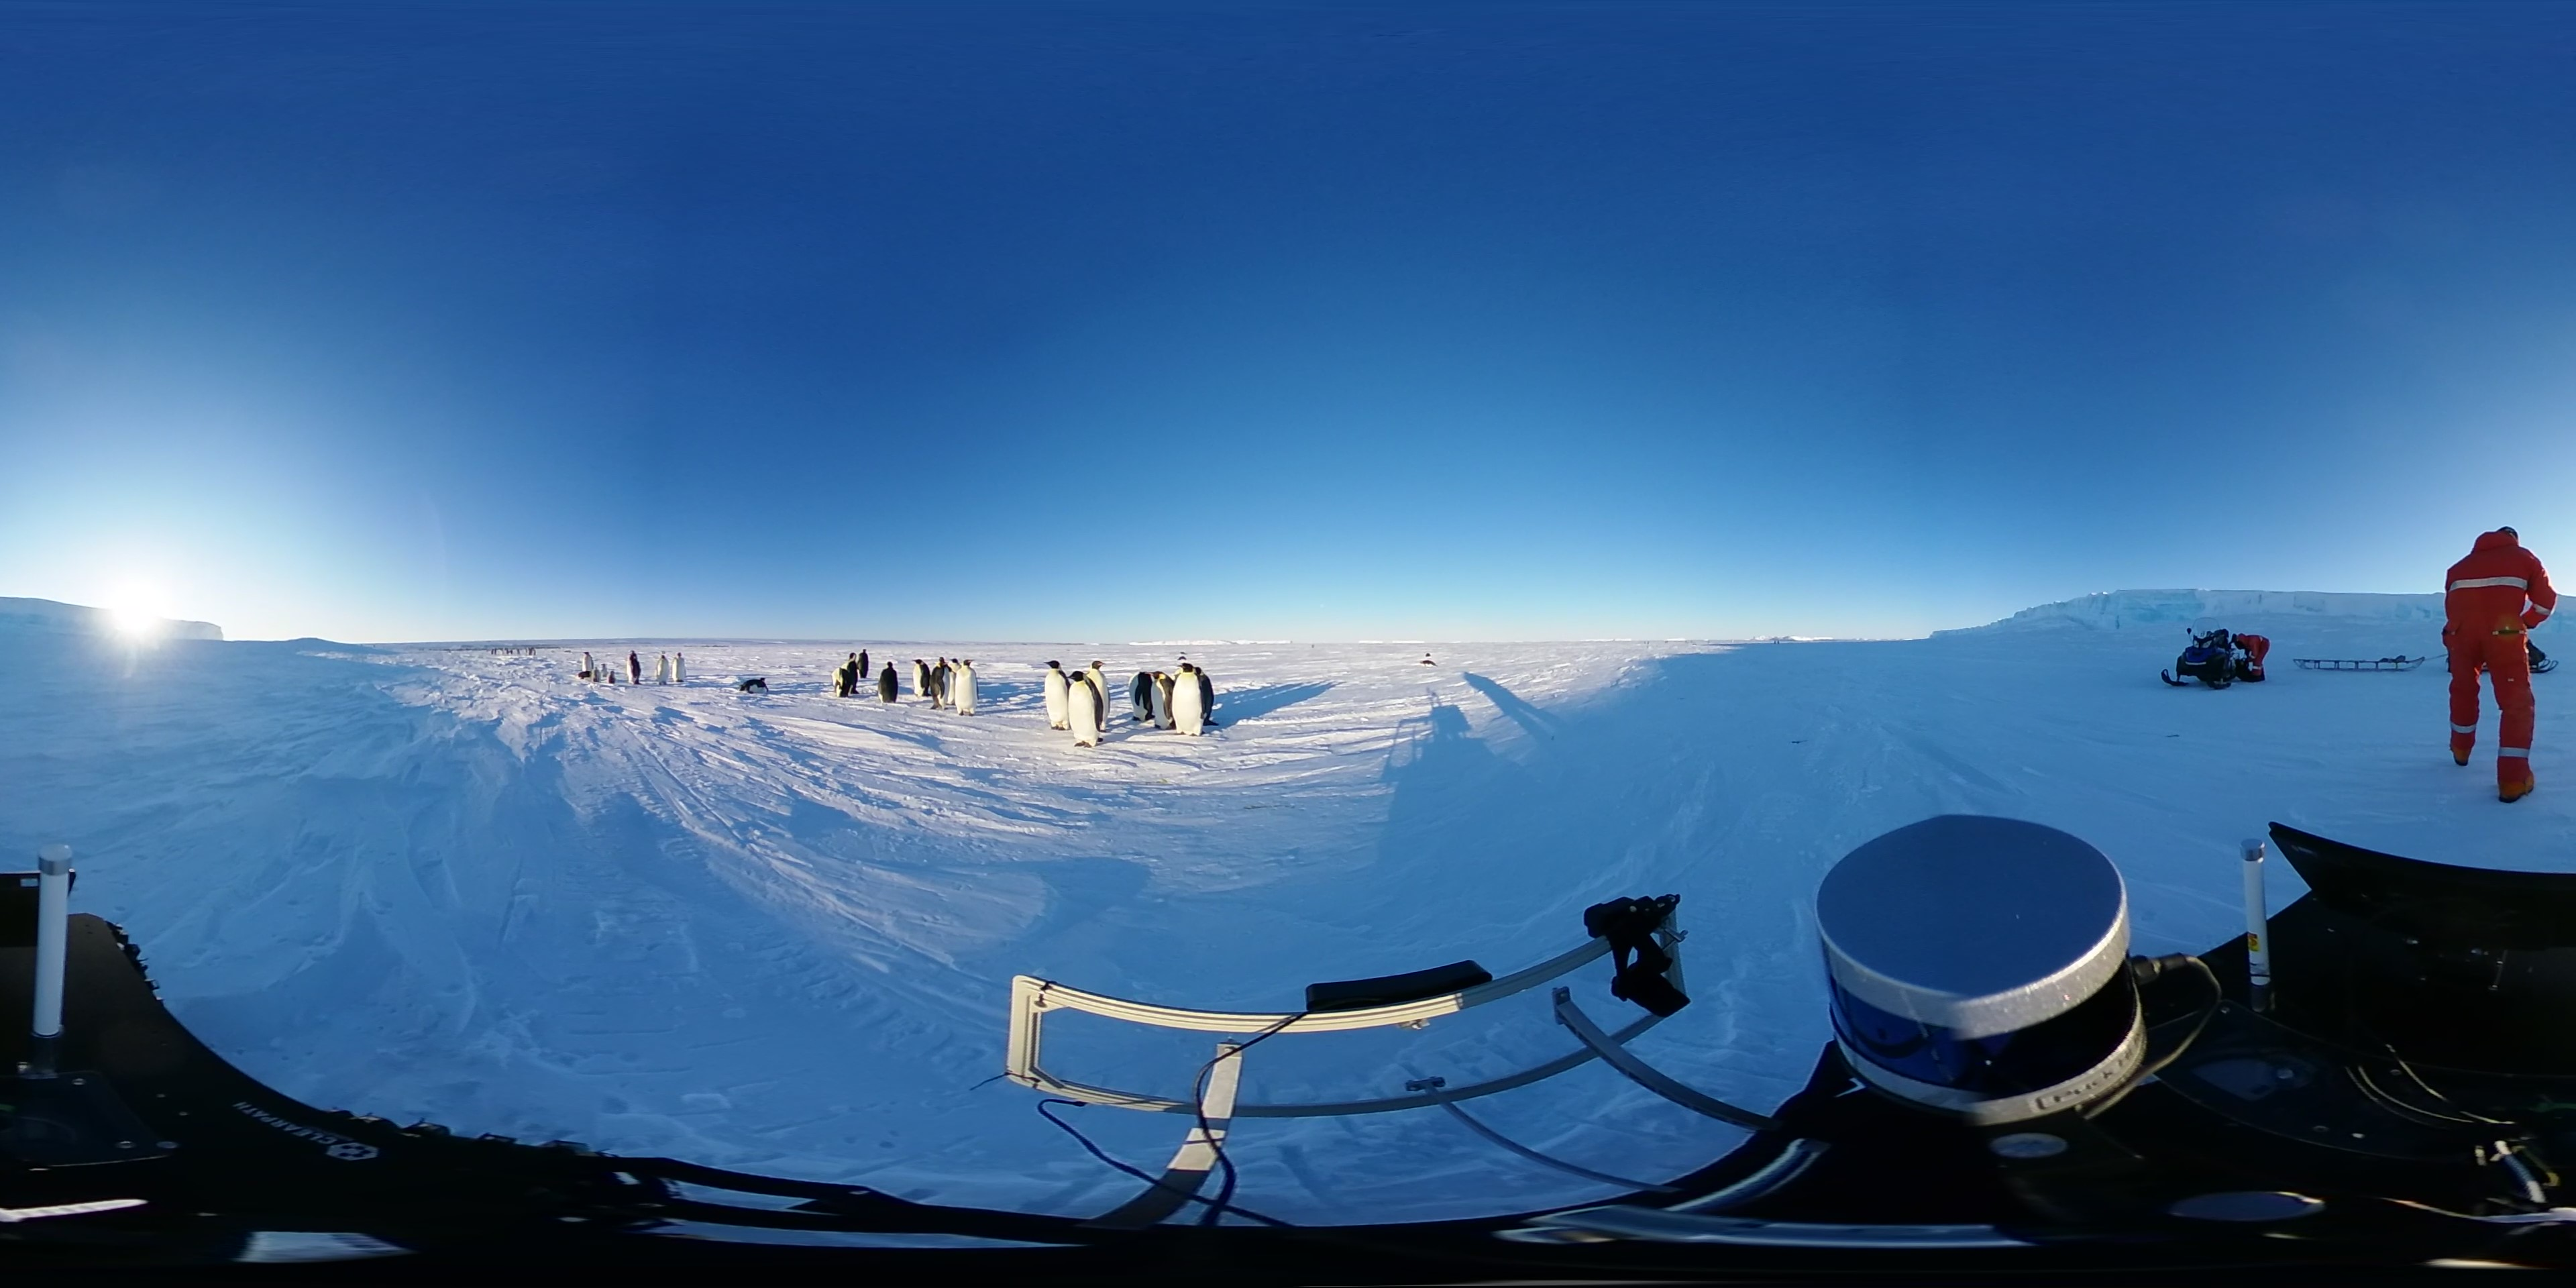adult_standing_penguin: (1065, 669, 1112, 752), (1040, 660, 1083, 733), (1171, 659, 1209, 739), (1142, 667, 1178, 729), (953, 657, 981, 720), (876, 660, 902, 708), (910, 655, 933, 701), (623, 647, 646, 688)
adult_toboggan_penguin: (738, 672, 777, 700)
researcher: (2436, 519, 2563, 810), (2229, 626, 2272, 682)
